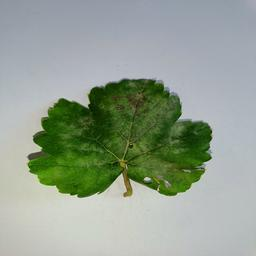Powdery-Mildew: (119, 92, 177, 120), (140, 158, 179, 190), (116, 122, 153, 153), (164, 123, 199, 155), (56, 116, 92, 143), (56, 156, 102, 176)
